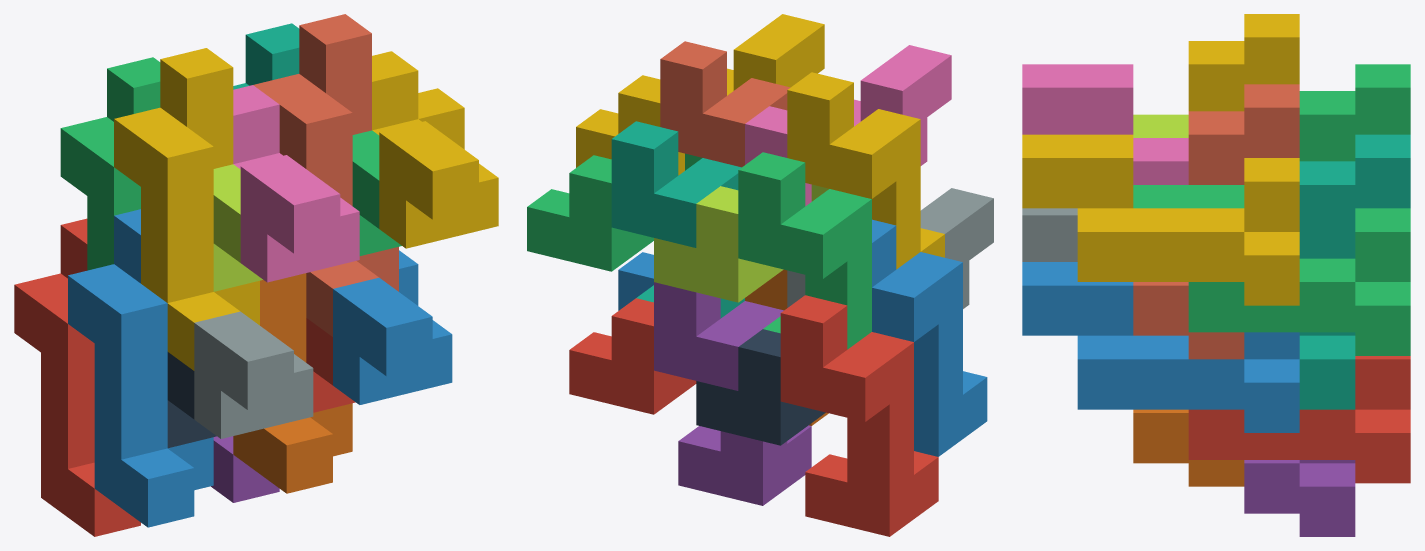
The model's file is tiling.obj.
The picture shows the model from 3 angles, left to right: view 1: azimuth 30°, elevation 25°; view 2: azimuth 150°, elevation 25°; view 3: azimuth 270°, elevation 25°; orthographic projection. The views are drawn at different scales.
Parts seen in each view (by area): view 1: copy_1_domain_4, copy_1_domain_2, copy_2_domain_8, copy_1_domain_8, copy_1_domain_1, copy_2_domain_4, copy_2_domain_6, copy_2_domain_2, copy_1_domain_6, copy_1_domain_3, copy_2_domain_3, copy_2_domain_7 (+4 smaller); view 2: copy_1_domain_1, copy_1_domain_5, copy_1_domain_3, copy_1_domain_4, copy_1_domain_2, copy_1_domain_7, copy_1_domain_8, copy_2_domain_8, copy_2_domain_7, copy_2_domain_5, copy_2_domain_4, copy_2_domain_3 (+4 smaller); view 3: copy_2_domain_8, copy_2_domain_6, copy_2_domain_7, copy_2_domain_5, copy_1_domain_7, copy_1_domain_8, copy_2_domain_4, copy_1_domain_3, copy_1_domain_4, copy_1_domain_5, copy_1_domain_6, copy_2_domain_2 (+1 smaller).
Boxes of the visible parts, left/top/right/bottom form: copy_1_domain_4: left=114, top=48, right=259, bottom=370; copy_1_domain_2: left=68, top=209, right=213, bottom=527; copy_2_domain_8: left=372, top=51, right=498, bottom=248; copy_1_domain_8: left=253, top=14, right=398, bottom=336; copy_1_domain_1: left=14, top=218, right=140, bottom=536; copy_2_domain_4: left=233, top=85, right=359, bottom=282; copy_2_domain_6: left=333, top=250, right=452, bottom=404; copy_2_domain_2: left=194, top=311, right=313, bottom=438; copy_1_domain_6: left=233, top=273, right=352, bottom=493; copy_1_domain_3: left=60, top=57, right=160, bottom=270; copy_2_domain_3: left=213, top=164, right=262, bottom=291; copy_2_domain_7: left=352, top=130, right=401, bottom=255; copy_1_domain_1: left=780, top=295, right=938, bottom=536; copy_1_domain_5: left=654, top=282, right=811, bottom=505; copy_1_domain_3: left=738, top=152, right=871, bottom=349; copy_1_domain_4: left=787, top=72, right=944, bottom=269; copy_1_domain_2: left=872, top=219, right=987, bottom=456; copy_1_domain_7: left=611, top=121, right=744, bottom=318; copy_1_domain_8: left=660, top=41, right=790, bottom=167; copy_2_domain_8: left=576, top=14, right=824, bottom=175; copy_2_domain_7: left=527, top=153, right=702, bottom=271; copy_2_domain_5: left=569, top=298, right=696, bottom=414; copy_2_domain_4: left=745, top=45, right=951, bottom=206; copy_2_domain_3: left=654, top=184, right=829, bottom=302; copy_2_domain_8: left=1022, top=134, right=1299, bottom=305; copy_2_domain_6: left=1022, top=262, right=1299, bottom=432; copy_2_domain_7: left=1133, top=185, right=1410, bottom=355; copy_2_domain_5: left=1188, top=356, right=1410, bottom=483; copy_1_domain_7: left=1299, top=134, right=1410, bottom=409; copy_1_domain_8: left=1133, top=84, right=1299, bottom=359; copy_2_domain_4: left=1022, top=64, right=1188, bottom=184; copy_1_domain_3: left=1299, top=64, right=1410, bottom=161; copy_1_domain_4: left=1188, top=14, right=1299, bottom=111; copy_1_domain_5: left=1244, top=460, right=1355, bottom=536; copy_1_domain_6: left=1133, top=409, right=1244, bottom=486; copy_2_domain_2: left=1022, top=208, right=1077, bottom=261.
Bounding box in the file's own units: 8 × 9 × 7.
